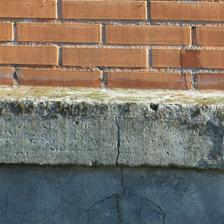Crack: (88, 190, 169, 224), (112, 110, 128, 166)
